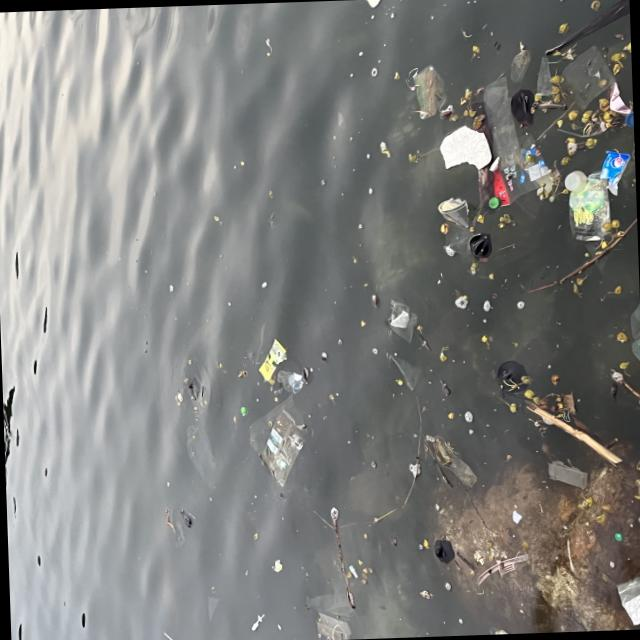foam: (439, 123, 491, 171), (364, 0, 382, 7)
plastic bottle: (478, 74, 535, 205), (557, 41, 616, 116), (256, 411, 314, 486), (248, 392, 308, 456), (568, 169, 612, 241), (425, 432, 477, 488), (515, 133, 556, 194), (412, 62, 448, 120), (184, 423, 216, 484), (440, 195, 471, 254), (600, 148, 632, 194), (388, 297, 420, 342), (388, 351, 424, 390), (256, 338, 288, 380), (617, 569, 640, 624), (546, 458, 588, 488), (304, 592, 352, 616), (316, 610, 354, 640), (628, 277, 640, 367), (532, 54, 552, 96), (608, 78, 630, 115), (508, 48, 531, 81), (276, 368, 304, 392), (564, 168, 586, 192), (487, 626, 517, 634), (162, 630, 181, 640)
unknow: (473, 552, 529, 586), (348, 564, 358, 577)
